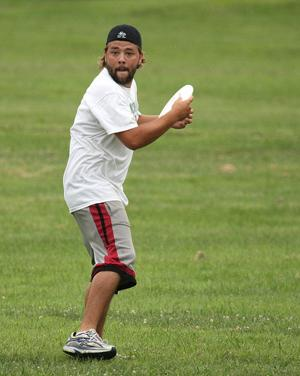person: (64, 23, 193, 360)
